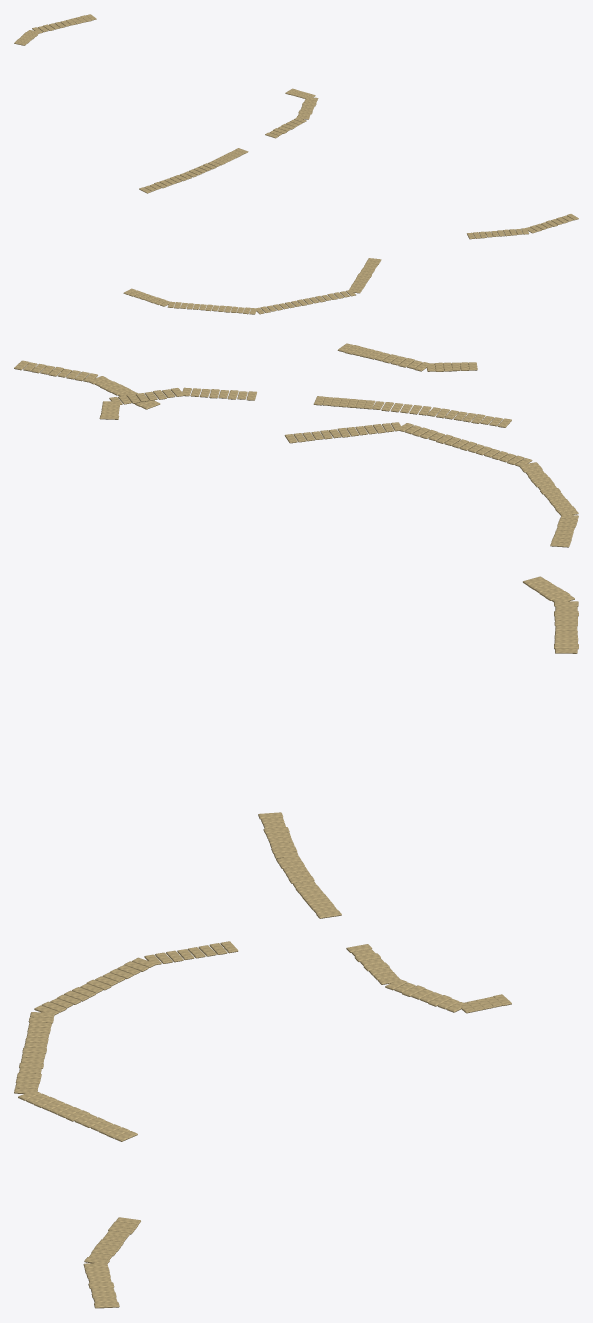
File: Coastal_Paths.fbx
3 views of the same model, one above another, from view 1: azimuth 30°, elevation 25°; view 2: azimuth 150°, elevation 25°; view 3: azimuth 270°, elevation 25° (orthographic). The views are drawn at different scales.
Visible parts, largest first — view 1: Coastal_Paths; view 2: Coastal_Paths; view 3: Coastal_Paths.
Boxes of the visible parts, bbox=[...] form: Coastal_Paths: bbox=[14, 14, 578, 314]; Coastal_Paths: bbox=[14, 343, 578, 547]; Coastal_Paths: bbox=[14, 576, 578, 1308].
Size of the model in its own units: 5237 by 3238 by 2192.
